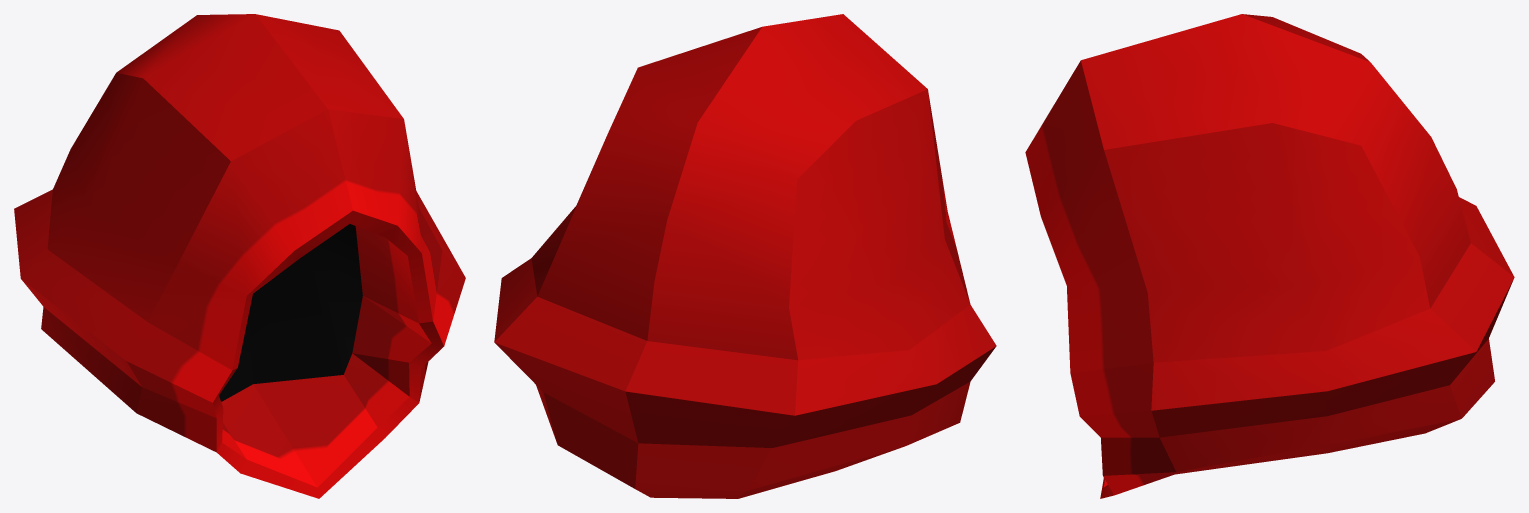
The model's file is Hood.fbx.
3 views of the same model, side by side, from view 1: azimuth 30°, elevation 25°; view 2: azimuth 150°, elevation 25°; view 3: azimuth 270°, elevation 25° (orthographic). The views are drawn at different scales.
Parts seen in each view (by area): view 1: Hood; view 2: Hood; view 3: Hood.
Part boxes in pixels (<box>): Hood: <box>14,14,465,498</box>; Hood: <box>494,14,996,498</box>; Hood: <box>1025,14,1514,498</box>.
Bounding box in the file's own units: 44.41 × 47.51 × 43.44.
